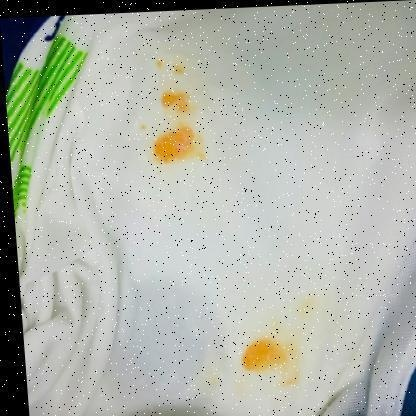kimchi: (242, 341, 304, 389), (150, 123, 207, 170), (275, 295, 316, 331), (154, 87, 199, 117), (150, 57, 191, 77), (136, 121, 147, 134)
